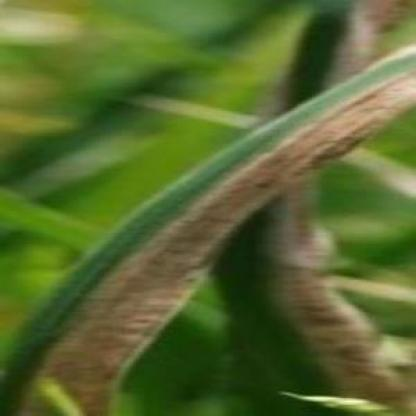Blight: (1, 45, 416, 416)
